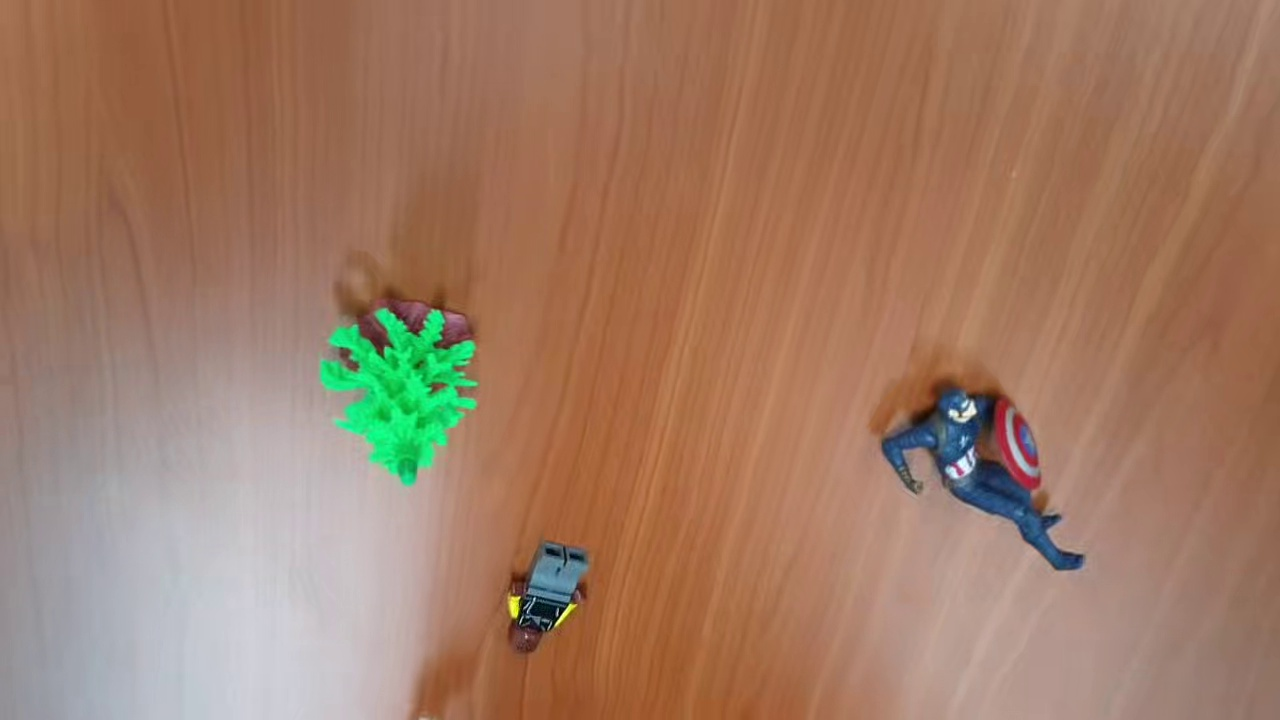people: (883, 387, 1089, 578), (501, 541, 595, 651)
tree: (320, 297, 478, 493)
